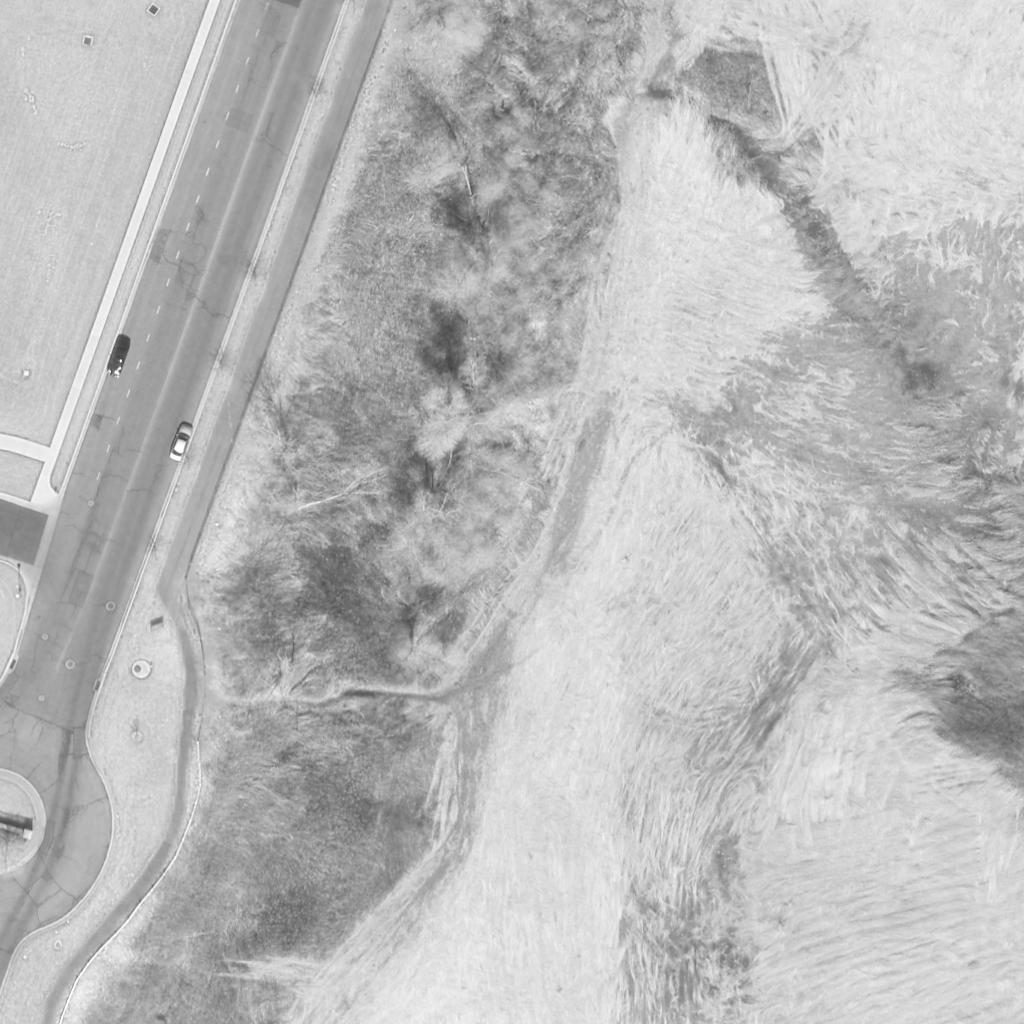vehicle: (105, 334, 133, 378), (170, 424, 194, 464)
